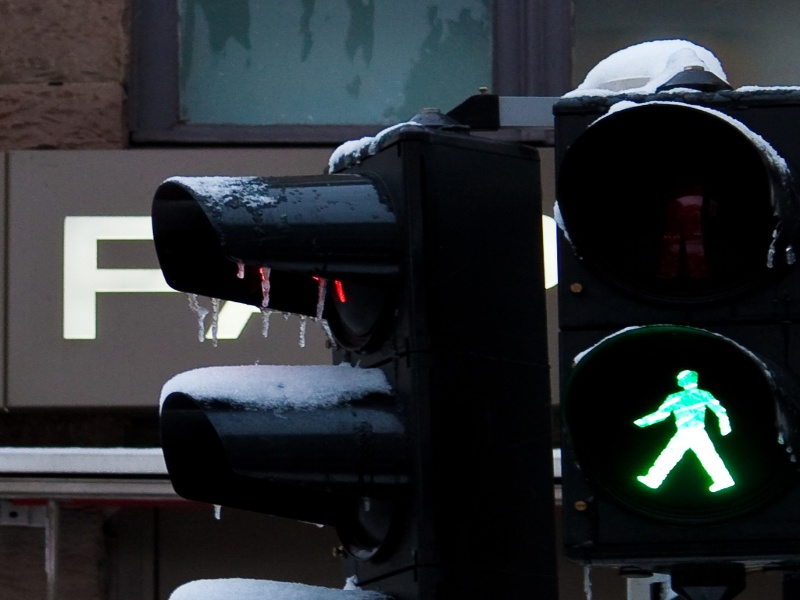pedestrian_crossing_green: (580, 333, 762, 504)
